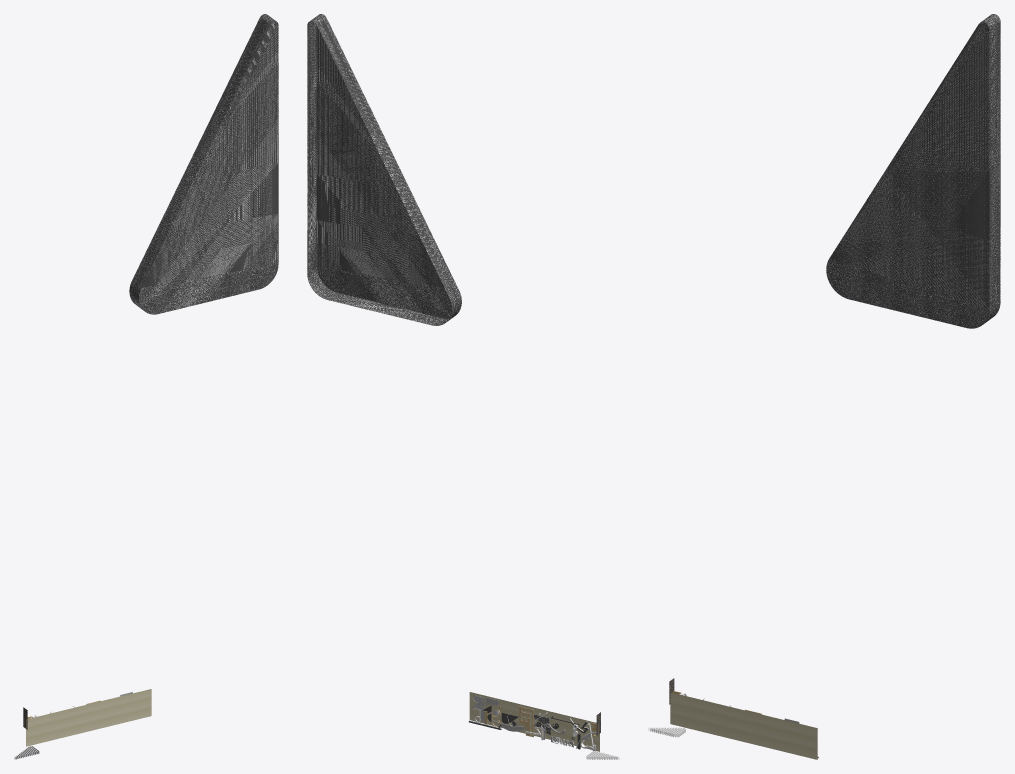
3 views of the same model, side by side, from view 1: azimuth 30°, elevation 25°; view 2: azimuth 150°, elevation 25°; view 3: azimuth 330°, elevation 25° (orthographic). The views are drawn at different scales.
Visible parts, largest first — view 1: instance_1, group_62; view 2: instance_1, group_62; view 3: instance_1, group_62.
Part boxes in pixels (bbox=[...]): instance_1: bbox=[129, 14, 278, 314]; group_62: bbox=[26, 689, 151, 746]; instance_1: bbox=[307, 14, 461, 325]; group_62: bbox=[469, 692, 599, 751]; instance_1: bbox=[826, 14, 1000, 328]; group_62: bbox=[670, 692, 817, 759].
Bounding box in the file's own units: 621 × 1416 × 91.43.
16 materials, 14 textured.
